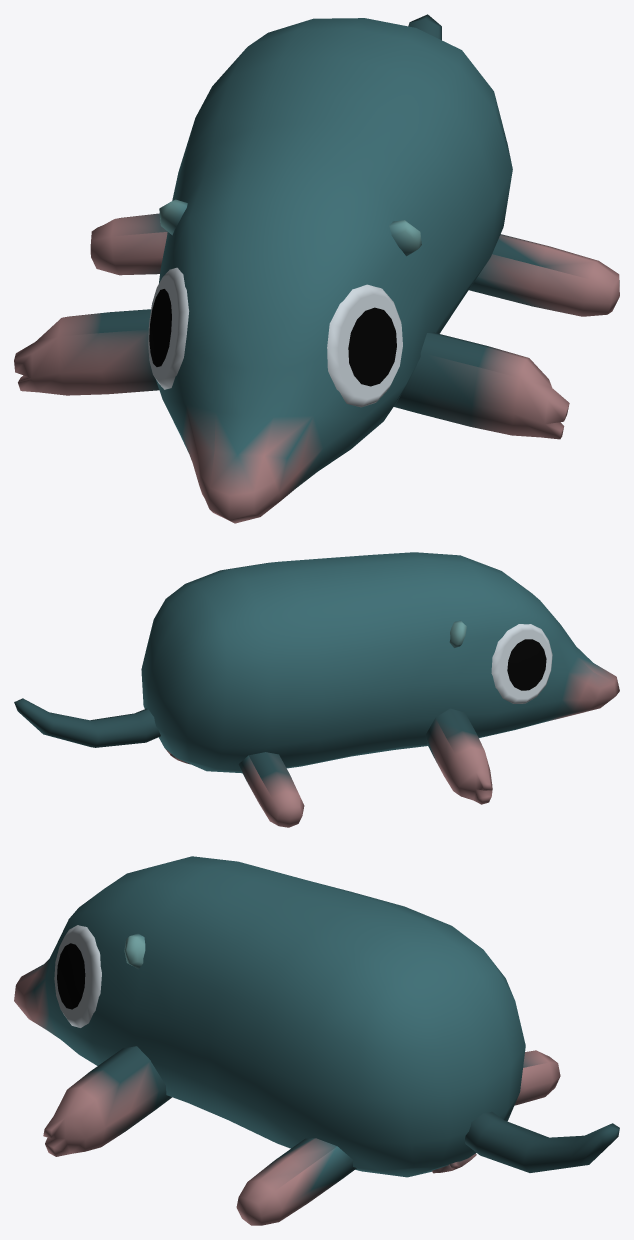
The model's file is Mole.glb.
3 views of the same model, one above another, from view 1: azimuth 30°, elevation 25°; view 2: azimuth 150°, elevation 25°; view 3: azimuth 270°, elevation 25° (orthographic). The views are drawn at different scales.
Parts seen in each view (by area): view 1: 101; view 2: 101; view 3: 101.
Part boxes in pixels (x1,y1,x2,y2): 101: (14, 14, 619, 523); 101: (14, 552, 619, 827); 101: (14, 856, 619, 1225).
Size of the model in its own units: 0.6892 by 0.3199 by 0.7528.
